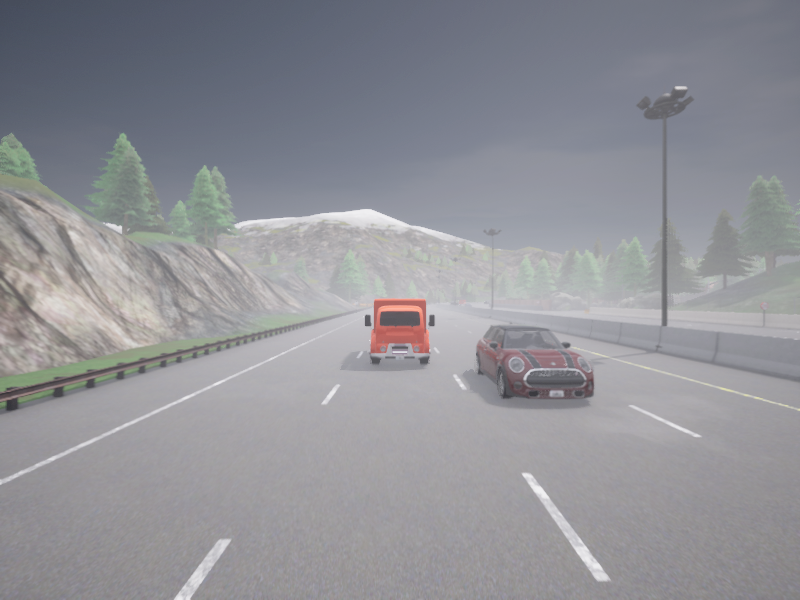vehicle: (475, 320, 594, 398), (365, 298, 434, 363), (459, 300, 466, 305), (449, 301, 457, 305), (463, 303, 470, 306), (485, 301, 490, 304), (674, 303, 679, 304)
